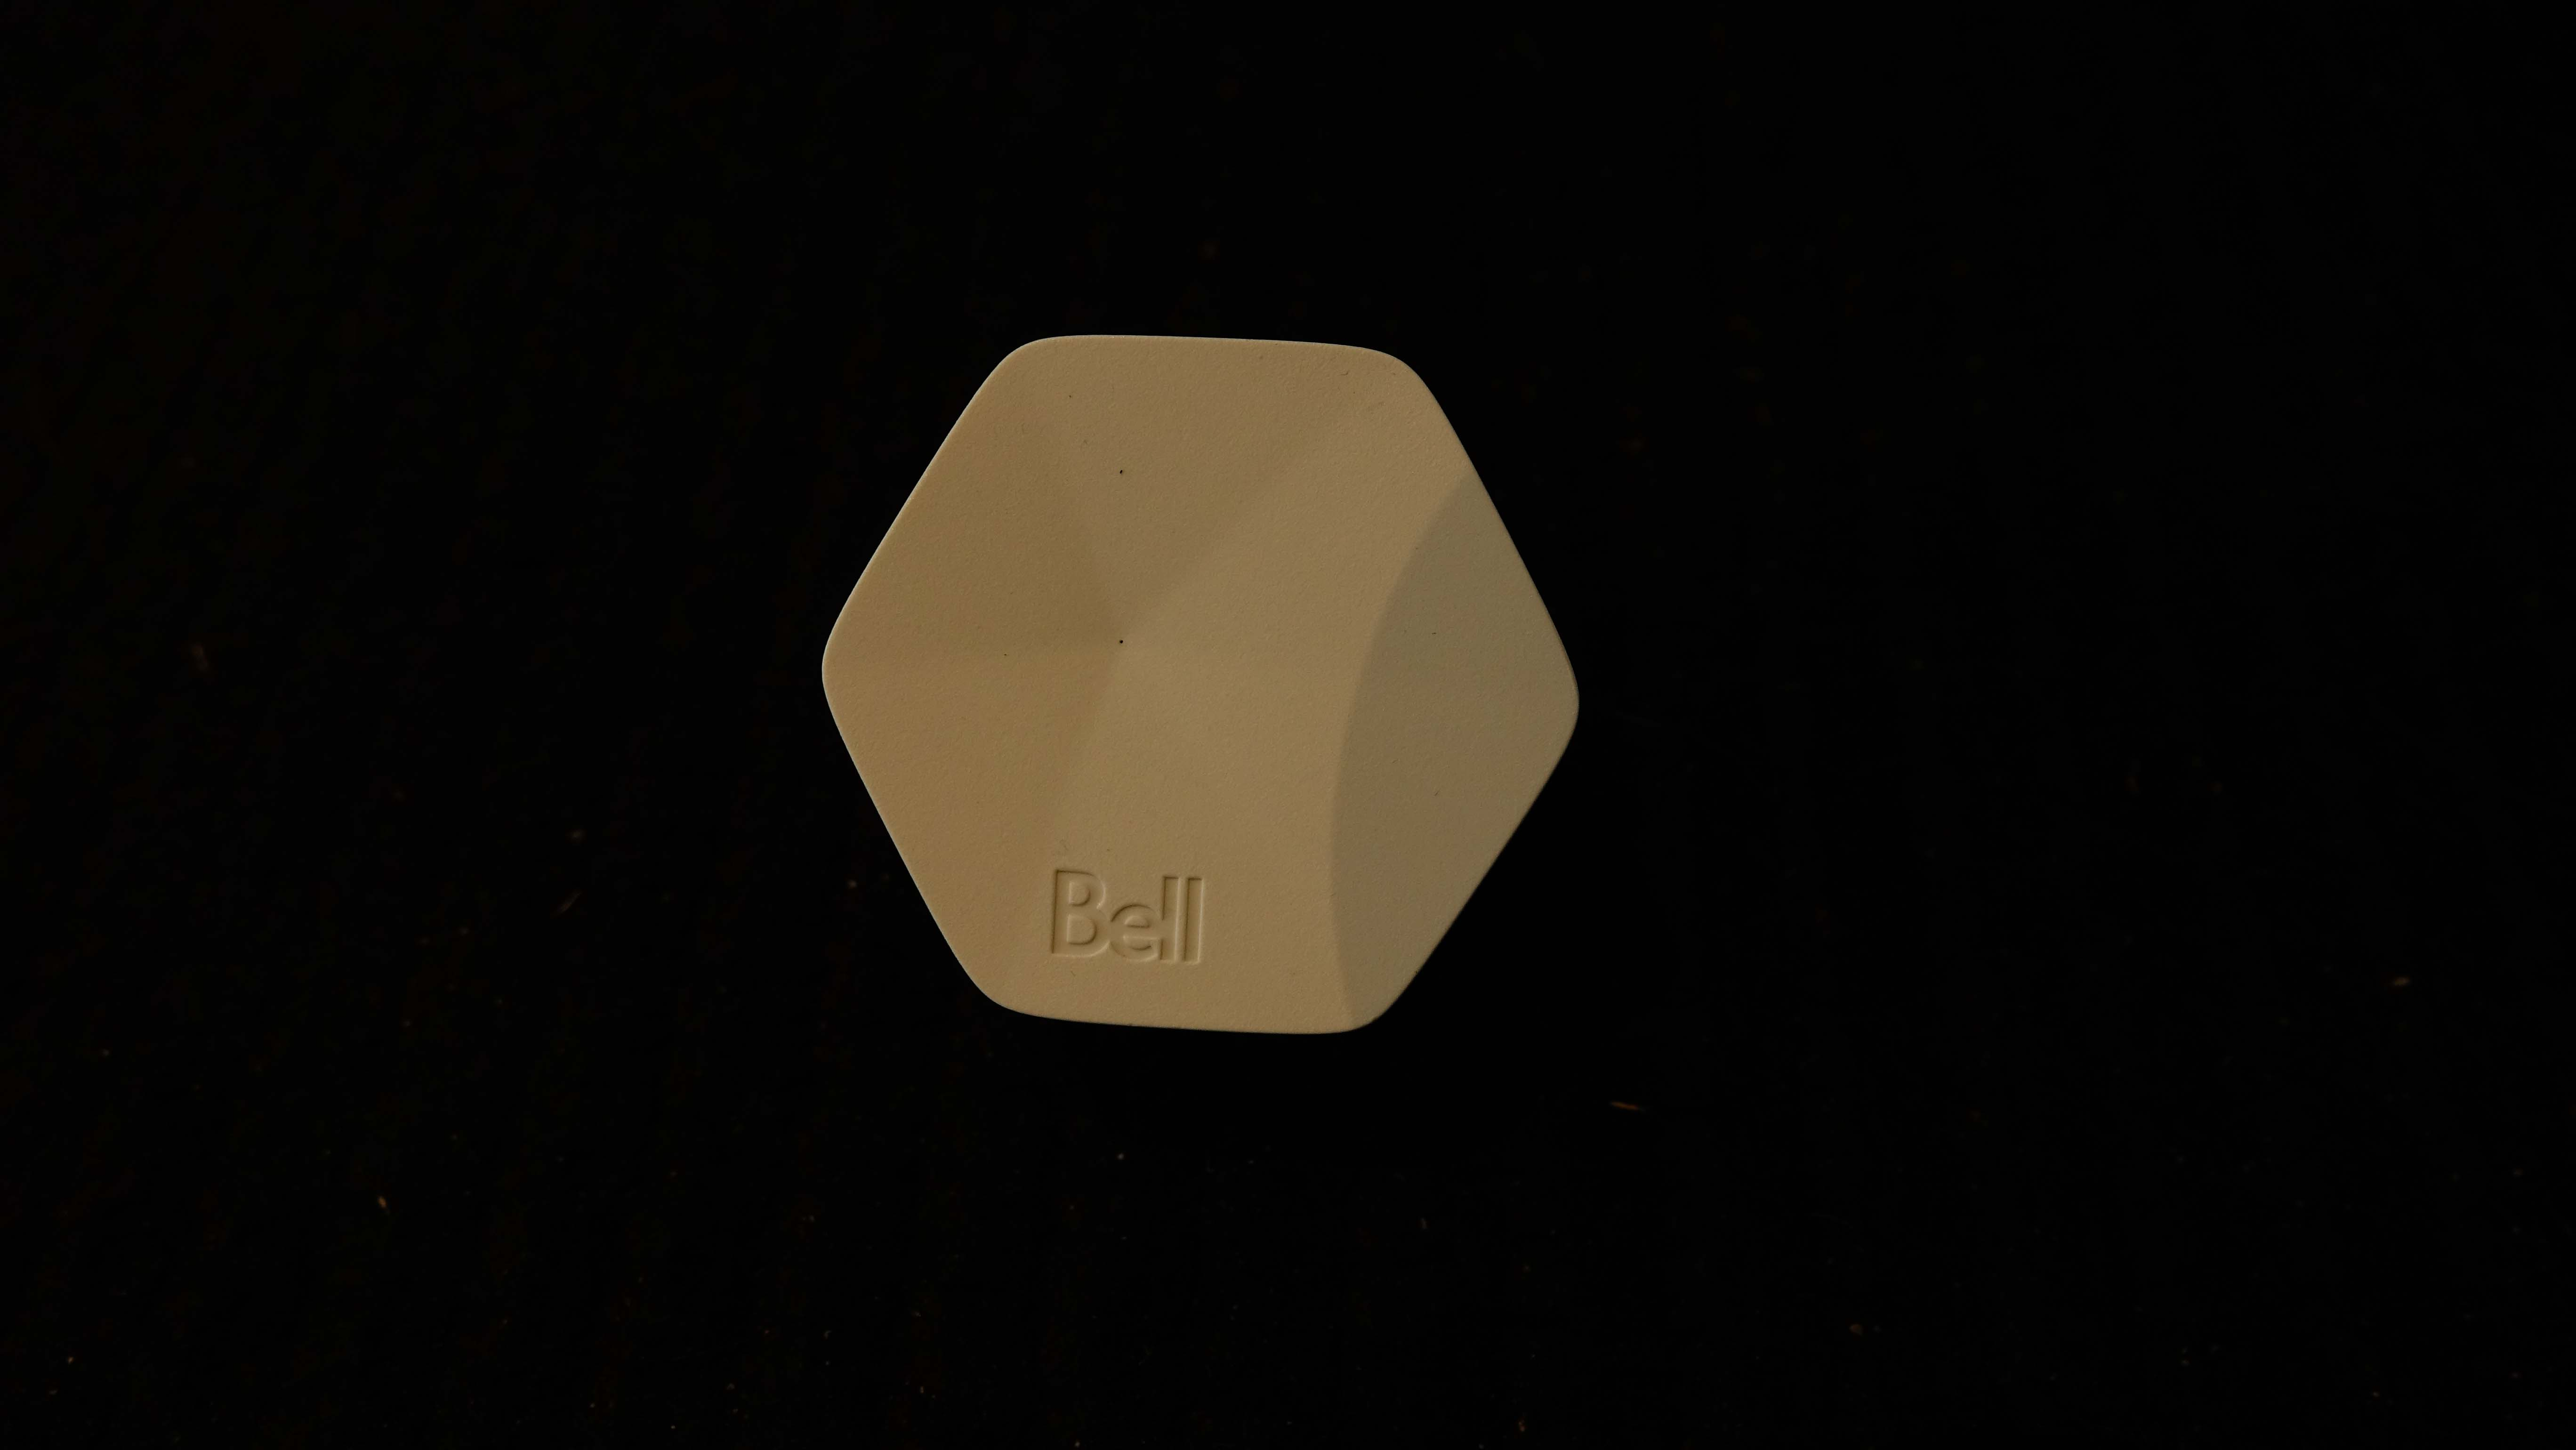pod: (826, 322, 1594, 1052)
